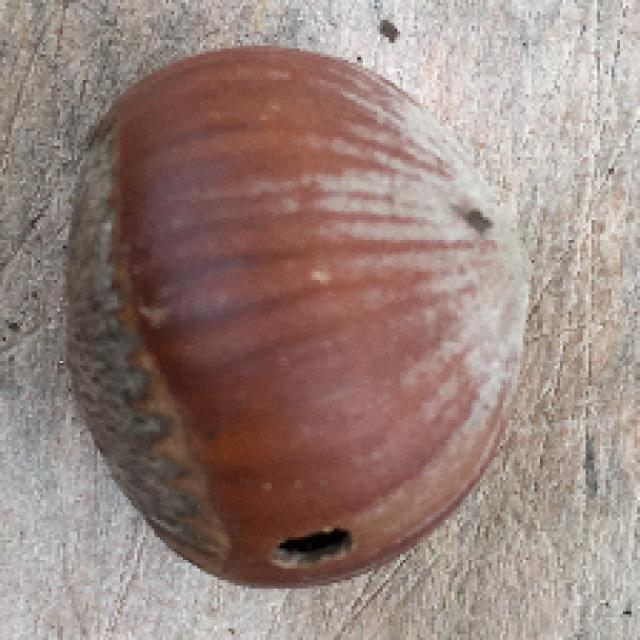damagedHazelnut: (55, 42, 528, 605)
